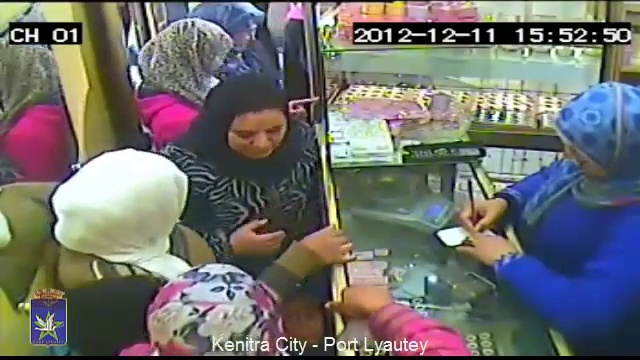face: (226, 118, 285, 158)
